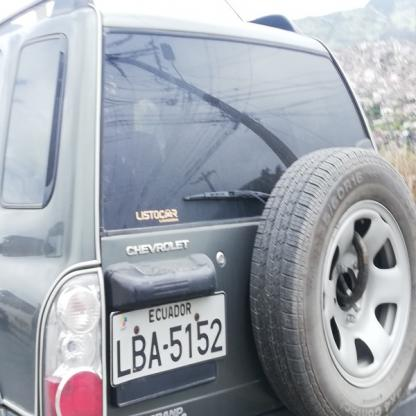Placa: (104, 290, 230, 389)
